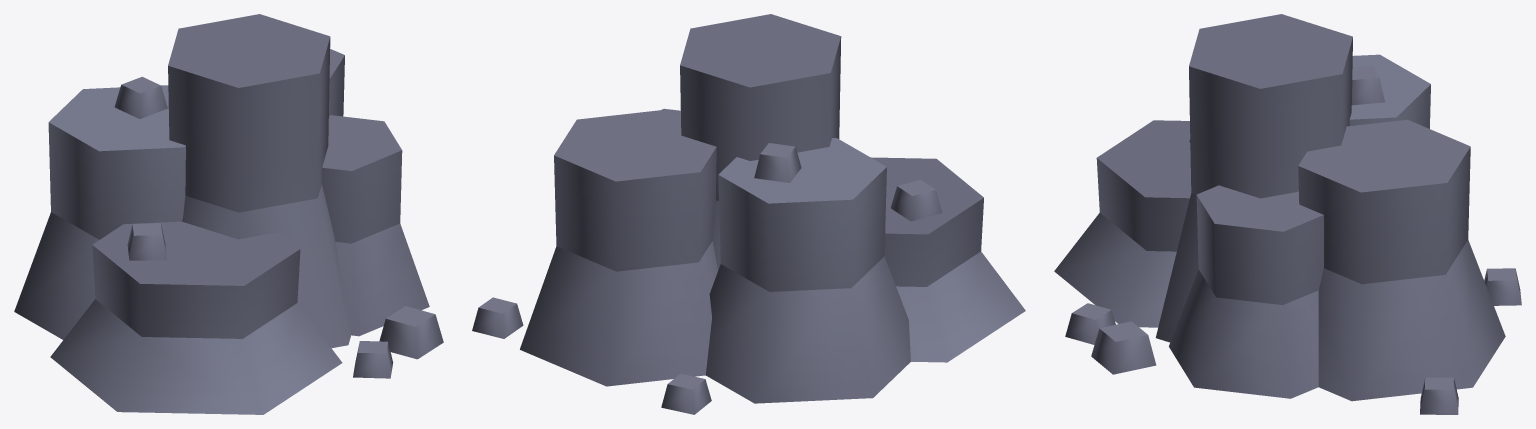
The model's file is rocks_c.glb.
3 views of the same model, side by side, from view 1: azimuth 30°, elevation 25°; view 2: azimuth 150°, elevation 25°; view 3: azimuth 270°, elevation 25° (orthographic).
Visible parts, largest first — view 1: rocks-c; view 2: rocks-c; view 3: rocks-c.
Part boxes in pixels (x1=…): rocks-c: x1=14, y1=14, x2=443, y2=414; rocks-c: x1=472, y1=14, x2=1025, y2=414; rocks-c: x1=1054, y1=14, x2=1521, y2=414.
Size of the model in its own units: 3.64 by 2.3 by 3.67.
Materials: 1 (1 with a texture image).
